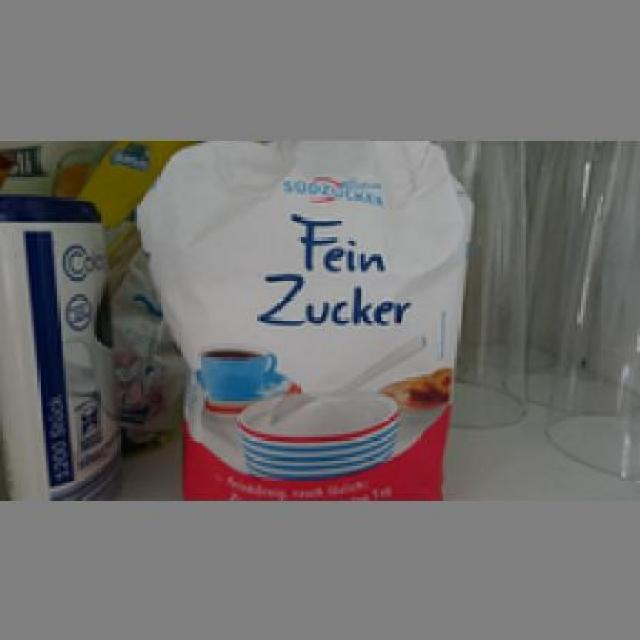Sugar: (133, 137, 470, 494)
